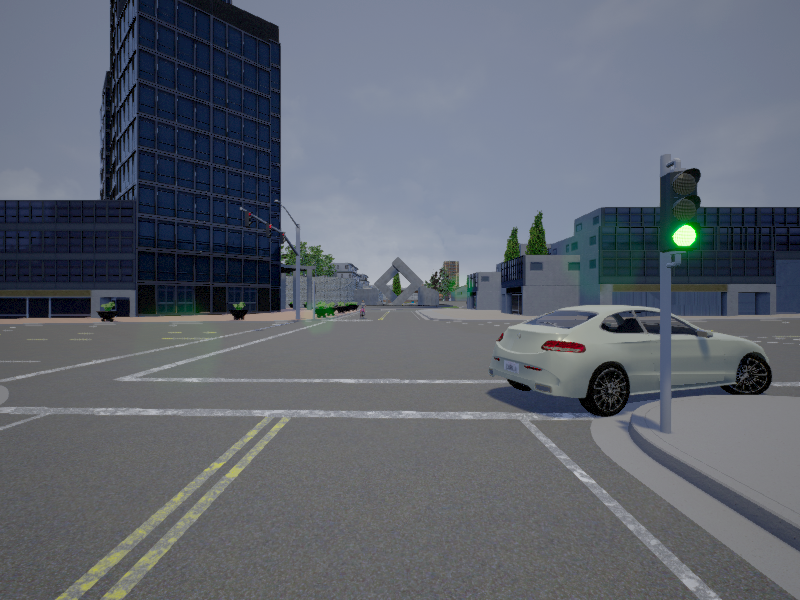Benign: (491, 303, 776, 416)
